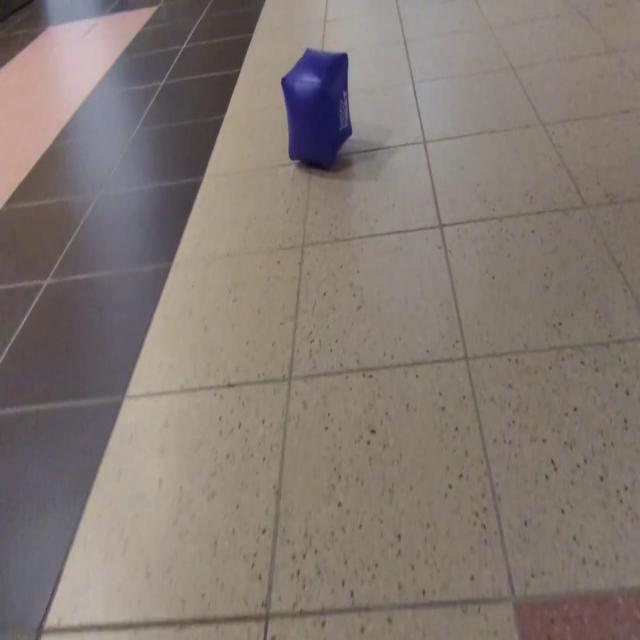frc_cube: (280, 47, 354, 170)
